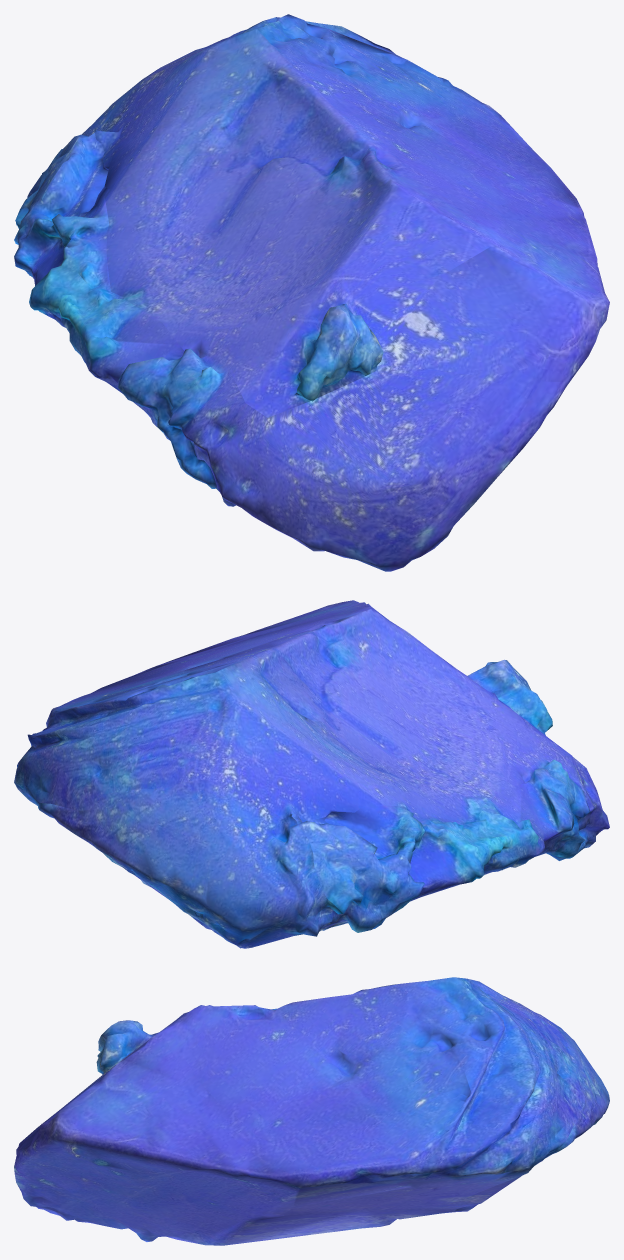
The model's file is gem#001.glb.
3 renders of one model, top to bottom at view 1: azimuth 30°, elevation 25°; view 2: azimuth 150°, elevation 25°; view 3: azimuth 270°, elevation 25°, orthographic. The views are drawn at different scales.
Parts seen in each view (by area): view 1: samor_1159_03; view 2: samor_1159_03; view 3: samor_1159_03.
Boxes of the visible parts, <box> form: samor_1159_03: <box>14,14,609,571</box>; samor_1159_03: <box>14,600,609,948</box>; samor_1159_03: <box>14,977,609,1245</box>.
Size of the model in its own units: 0.8682 by 0.6059 by 1.12.
Materials: 1 (1 with a texture image).
